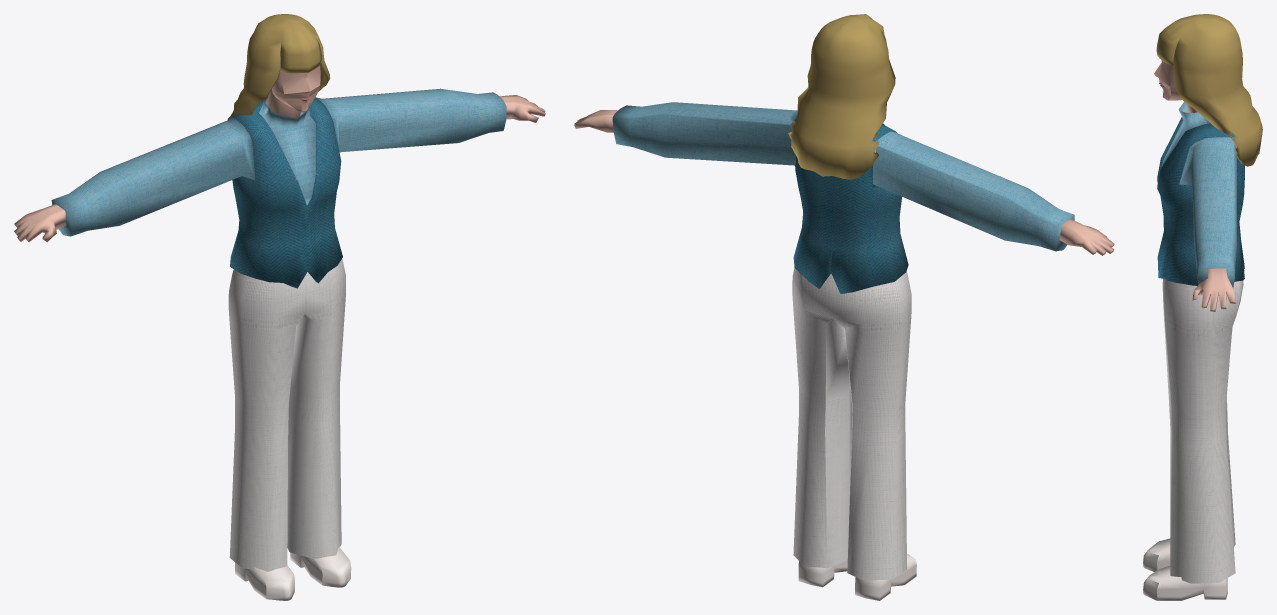
Rendered from Female_Receptionist_Tpose.fbx.
The picture shows the model from 3 angles, left to right: view 1: azimuth 30°, elevation 25°; view 2: azimuth 150°, elevation 25°; view 3: azimuth 270°, elevation 25°; orthographic projection.
Parts seen in each view (by area): view 1: Cube.001, Cylinder, Sphere, Cube, hand, Plane; view 2: Cylinder, Cube.001, Sphere, Cube, hand; view 3: Cylinder, Cube.001, Sphere, Cube, hand, Plane.
Boxes of the visible parts, bbox=[...] form: Cube.001: bbox=[51, 88, 506, 288]; Cylinder: bbox=[228, 258, 345, 571]; Sphere: bbox=[227, 14, 330, 119]; Cube: bbox=[235, 547, 351, 600]; hand: bbox=[14, 95, 545, 242]; Plane: bbox=[272, 47, 320, 112]; Cylinder: bbox=[792, 268, 911, 580]; Cube.001: bbox=[612, 102, 1074, 293]; Sphere: bbox=[788, 14, 895, 179]; Cube: bbox=[798, 554, 916, 600]; hand: bbox=[574, 110, 1114, 255]; Cylinder: bbox=[1162, 278, 1243, 583]; Cube.001: bbox=[1157, 102, 1244, 295]; Sphere: bbox=[1156, 14, 1262, 166]; Cube: bbox=[1143, 538, 1227, 600]; hand: bbox=[1192, 268, 1235, 311]; Plane: bbox=[1154, 42, 1181, 100].
Bounding box in the file's own units: 248 × 250 × 48.23.
9 materials, 3 textured.
